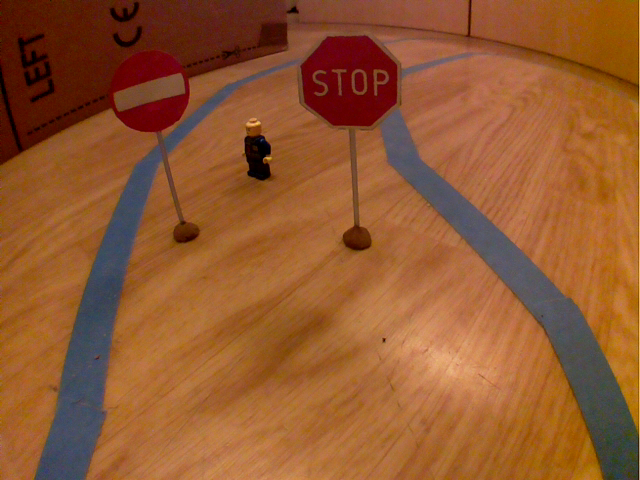Postac LEGO: (235, 113, 276, 184)
Stop: (291, 28, 407, 136)
Zakaz: (105, 42, 193, 135)
